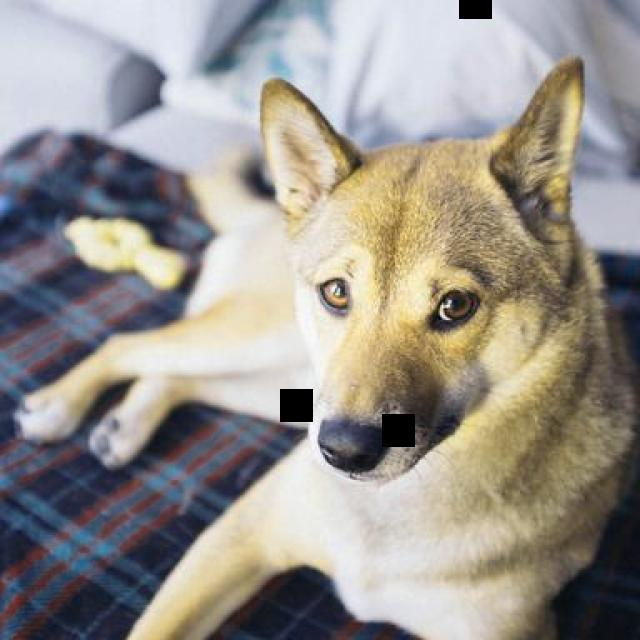adult_dog: (15, 53, 640, 640)
